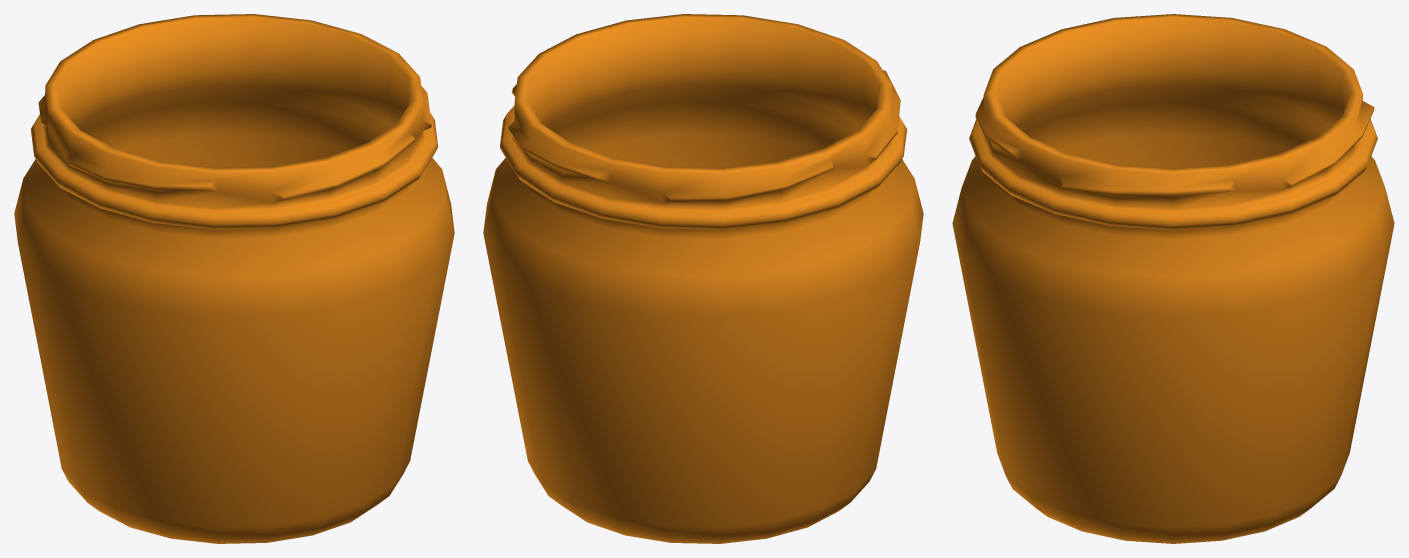
File: marmeladenglas5_lowpoly.fbx
3 renders of one model, left to right at view 1: azimuth 30°, elevation 25°; view 2: azimuth 150°, elevation 25°; view 3: azimuth 270°, elevation 25°, orthographic.
Parts seen in each view (by area): view 1: Cylinder.004; view 2: Cylinder.004; view 3: Cylinder.004.
Boxes of the visible parts, bbox=[...] form: Cylinder.004: bbox=[14, 14, 454, 543]; Cylinder.004: bbox=[483, 14, 923, 543]; Cylinder.004: bbox=[952, 14, 1394, 543].
Size of the model in its own units: 20.33 by 19.67 by 20.33.
